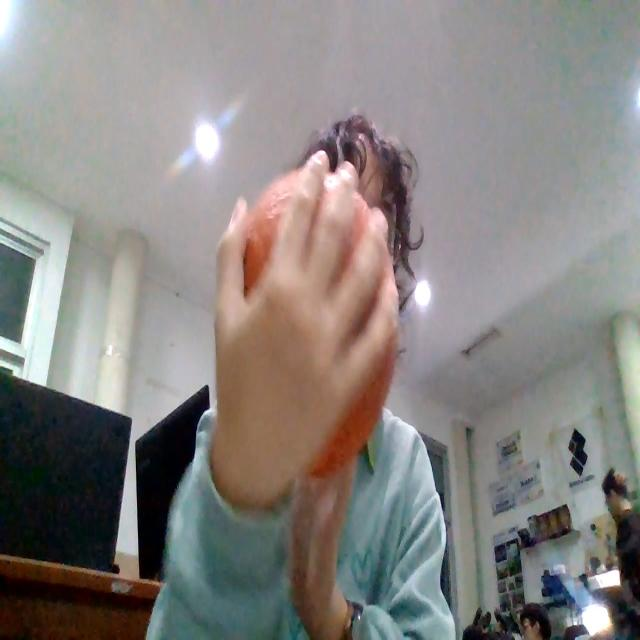ball: (243, 171, 390, 457)
